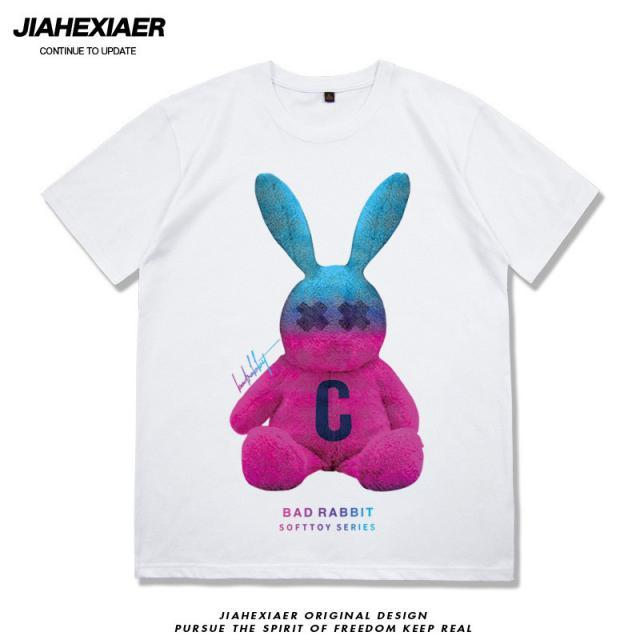shirt: (41, 58, 604, 592)
